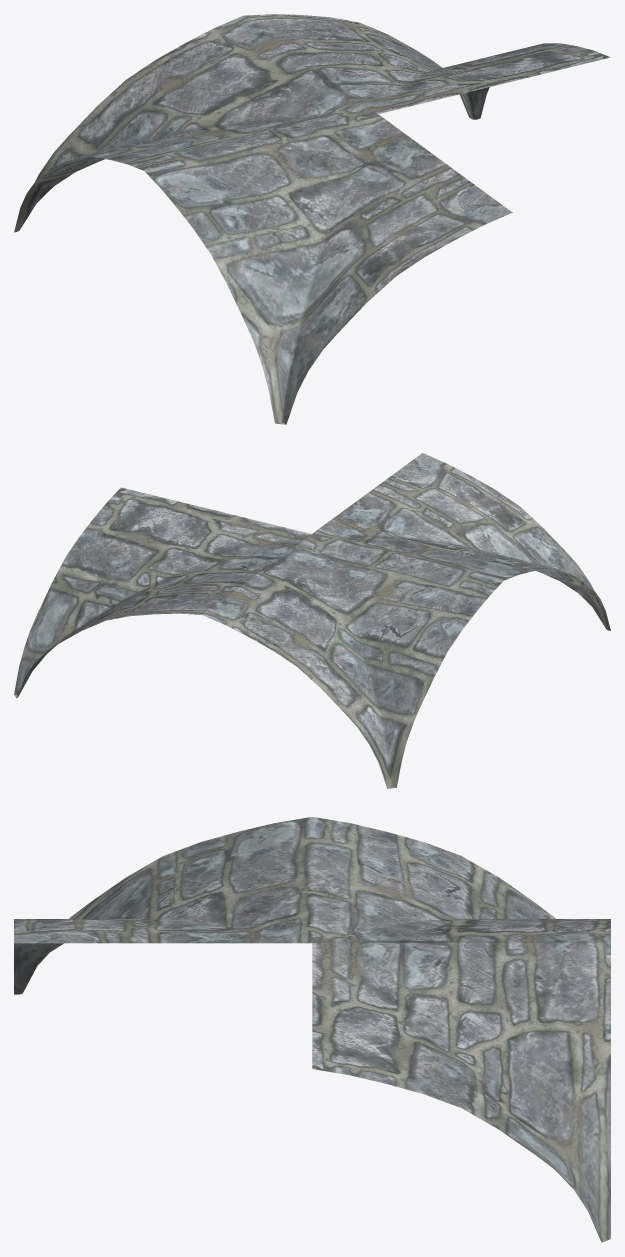
Rendered from SM_Ceiling_Third.glb.
3 renders of one model, top to bottom at view 1: azimuth 30°, elevation 25°; view 2: azimuth 150°, elevation 25°; view 3: azimuth 270°, elevation 25°, orthographic. The views are drawn at different scales.
Parts seen in each view (by area): view 1: SM_Ceiling_Third; view 2: SM_Ceiling_Third; view 3: SM_Ceiling_Third.
Boxes of the visible parts, x1,y1,x2,y2 form: SM_Ceiling_Third: (14,14,610,424); SM_Ceiling_Third: (14,453,610,788); SM_Ceiling_Third: (14,817,610,1242).
Size of the model in its own units: 6 by 1.93 by 6.
Materials: 1 (1 with a texture image).
